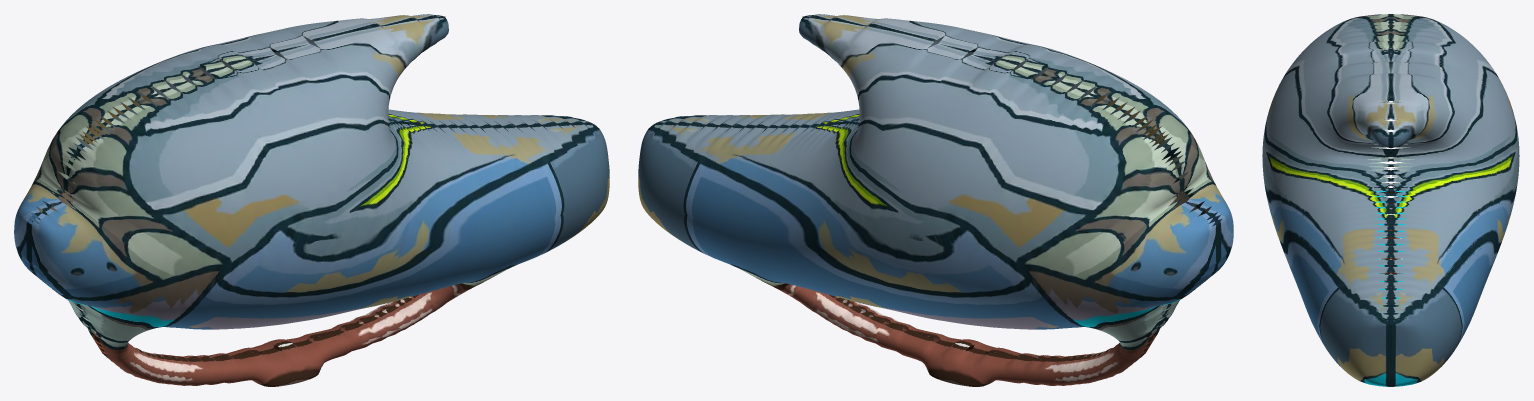
File: curved_catwalk.glb
3 renders of one model, left to right at view 1: azimuth 30°, elevation 25°; view 2: azimuth 150°, elevation 25°; view 3: azimuth 270°, elevation 25°, orthographic. The views are drawn at different scales.
Parts seen in each view (by area): view 1: curved_catwalk; view 2: curved_catwalk; view 3: curved_catwalk.
Boxes of the visible parts, <box> form: curved_catwalk: <box>14,14,609,386</box>; curved_catwalk: <box>638,14,1233,386</box>; curved_catwalk: <box>1262,14,1519,386</box>.
Size of the model in its own units: 0.989 by 0.5353 by 0.4525.
Materials: 1 (1 with a texture image).
